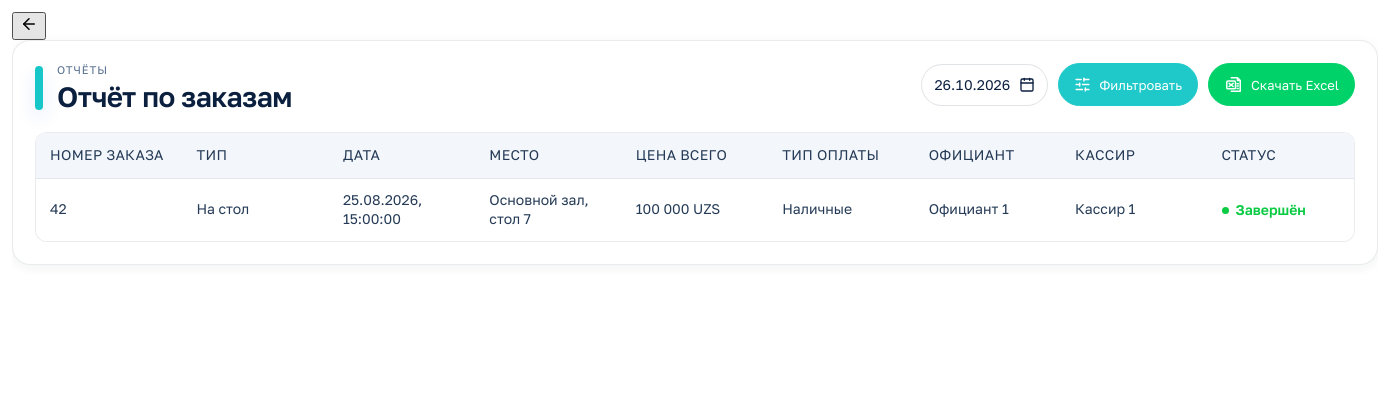
Test: OrdersReportPage filters › renders exactly six custom dropdowns + the order-number input (no native select)
expect the text "42" is shown: met, box [50,200,67,217]
Click the button with class "orders-filter-toggle". click: (1128,84)
box: [1058,63,1198,106]
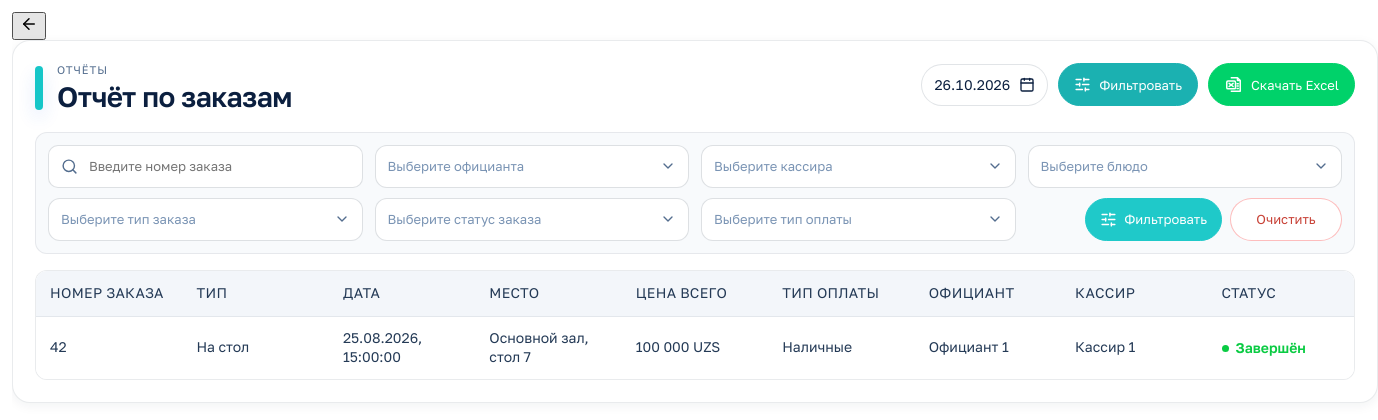
expect the dropdown labelled "официант" is shown: met, box [374,145,689,188]
expect the dropdown labelled "кассир" is shown: met, box [701,145,1016,188]
expect the dropdown named "Блюда" is shown: met, box [1028,145,1342,188]
